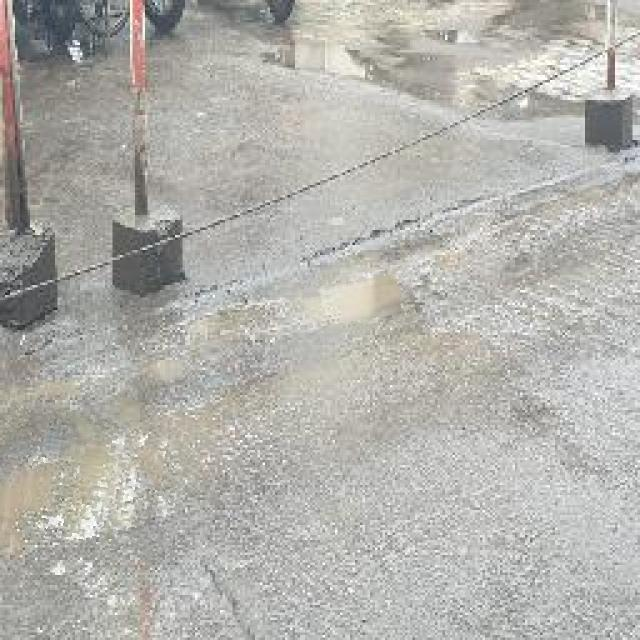puddle: (1, 409, 186, 552), (303, 270, 417, 334)
